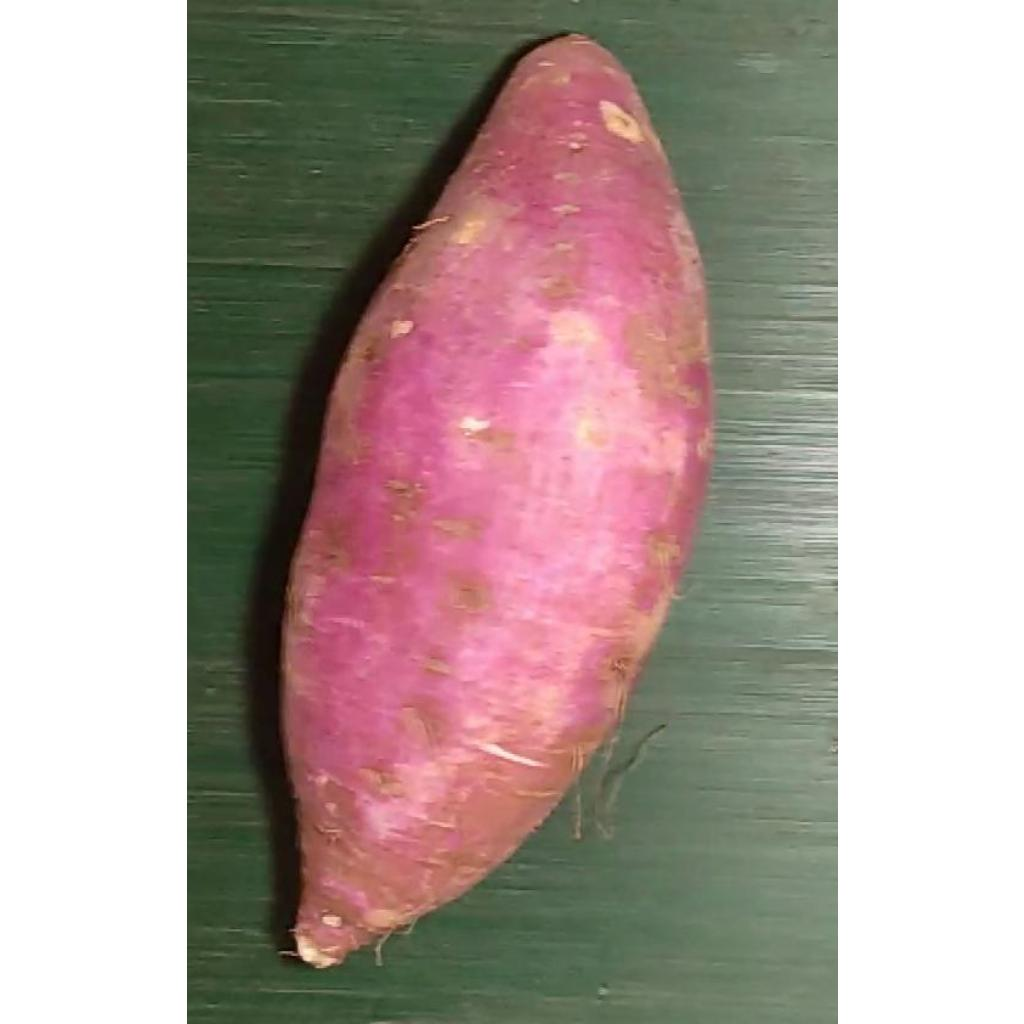Sweet Potato: (277, 32, 714, 969)
